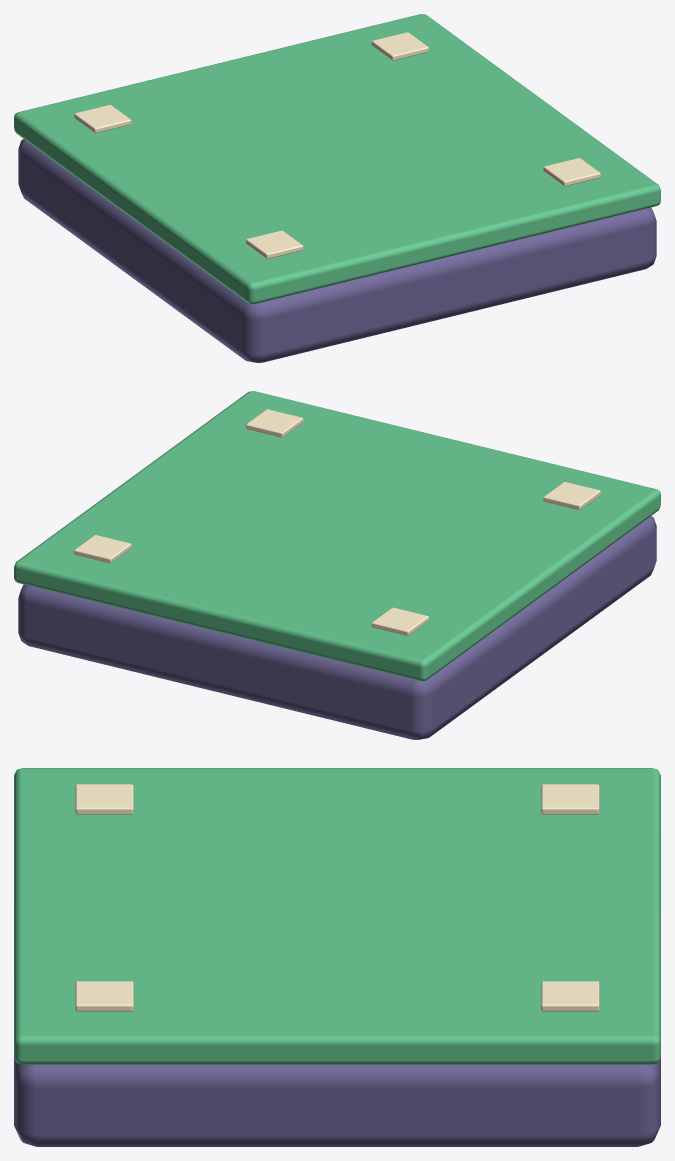
Rendered from stepping-tile.glb.
3 views of the same model, one above another, from view 1: azimuth 30°, elevation 25°; view 2: azimuth 150°, elevation 25°; view 3: azimuth 270°, elevation 25° (orthographic). The views are drawn at different scales.
Visible parts, largest first — view 1: mint-top, stone-base, corner--0.72-0.72, corner-0.72-0.72, corner--0.72--0.72, corner-0.72--0.72; view 2: mint-top, stone-base, corner--0.72--0.72, corner-0.72--0.72, corner--0.72-0.72, corner-0.72-0.72; view 3: mint-top, stone-base, corner-0.72--0.72, corner-0.72-0.72, corner--0.72--0.72, corner--0.72-0.72.
Part boxes in pixels (x1,y1,x2,y2): mint-top: (14,14,660,304); stone-base: (18,139,656,362); corner--0.72-0.72: (246,230,303,258); corner-0.72-0.72: (543,158,600,186); corner--0.72--0.72: (74,105,131,133); corner-0.72--0.72: (371,32,428,60); mint-top: (14,391,660,681); stone-base: (18,516,656,739); corner--0.72--0.72: (371,607,428,635); corner-0.72--0.72: (74,535,131,563); corner--0.72-0.72: (543,482,600,510); corner-0.72-0.72: (246,409,303,437); mint-top: (14,768,660,1064); stone-base: (14,1057,660,1146); corner-0.72--0.72: (541,981,599,1011); corner-0.72-0.72: (75,981,133,1011); corner--0.72--0.72: (541,784,599,814); corner--0.72-0.72: (75,784,133,814).
Size of the model in its own units: 2 by 0.425 by 2.
